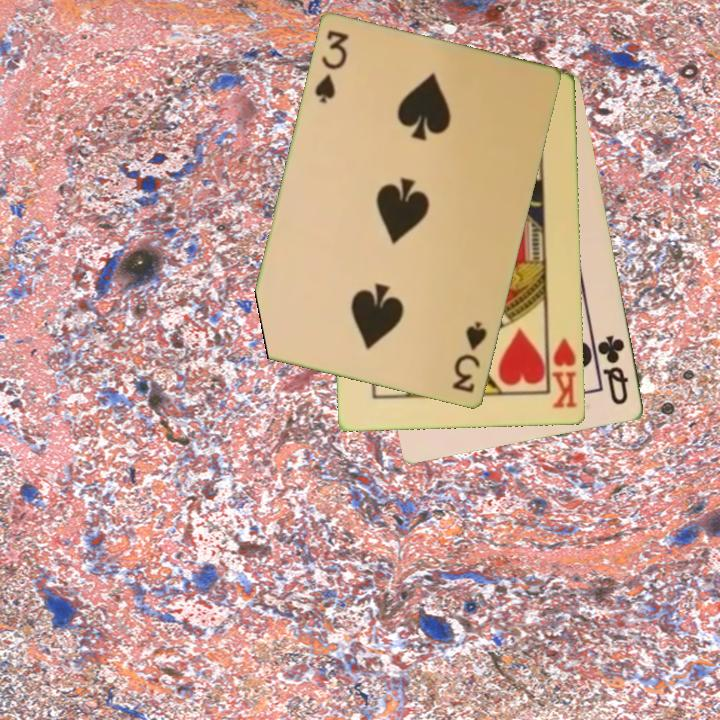3s: (311, 27, 352, 107), (449, 318, 490, 396)
Kh: (545, 331, 580, 412)
Qc: (594, 332, 632, 408)
